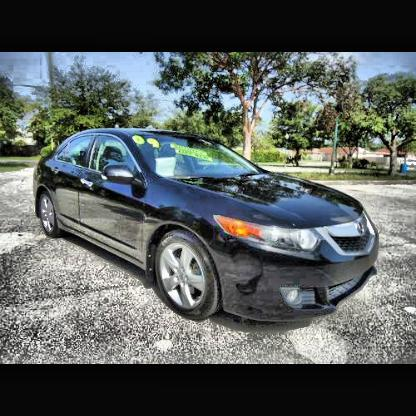Acura TSX Sedan 2012: (34, 127, 381, 330)
